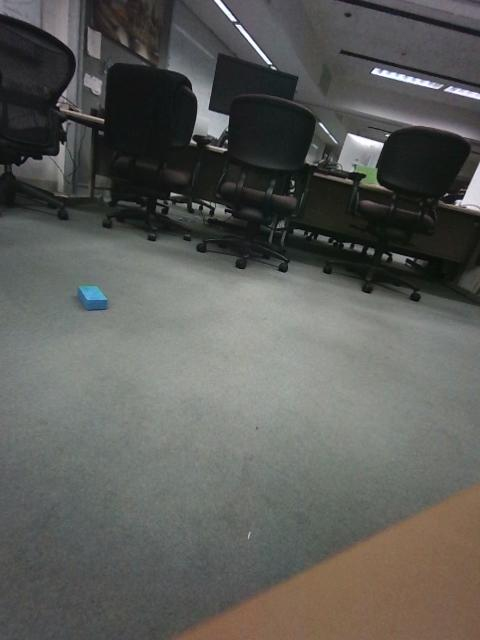block: (286, 448, 357, 552)
